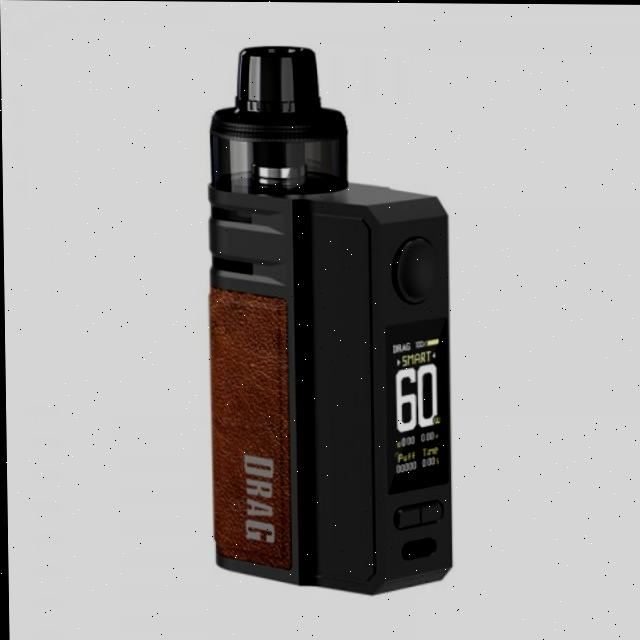vape: (207, 43, 452, 597)
